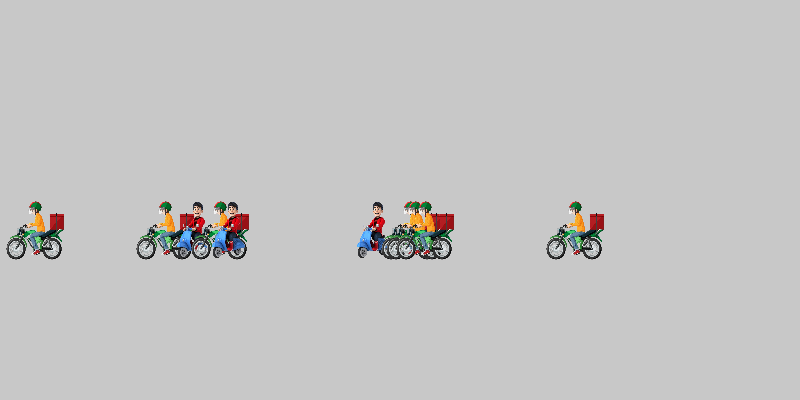helmet: (5, 200, 65, 260), (135, 200, 195, 260), (190, 200, 250, 260), (380, 200, 440, 260), (385, 200, 445, 260), (395, 200, 455, 260), (545, 200, 605, 260)
no_helmet: (165, 200, 225, 260), (200, 200, 260, 260), (345, 200, 405, 260)
